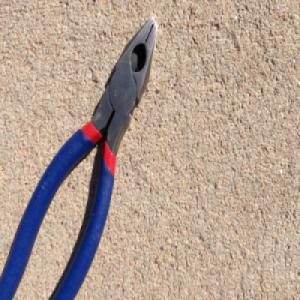Pliers: (0, 13, 158, 300)
